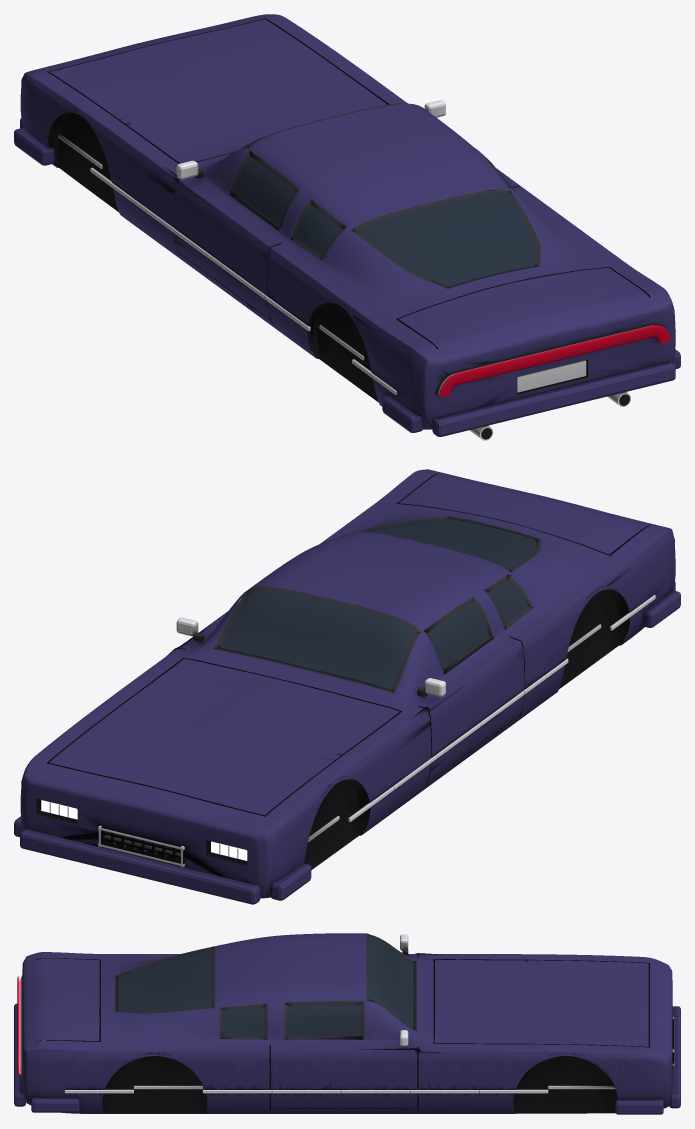
3 views of the same model, one above another, from view 1: azimuth 30°, elevation 25°; view 2: azimuth 150°, elevation 25°; view 3: azimuth 270°, elevation 25° (orthographic). The views are drawn at different scales.
Visible parts, largest first — view 1: body, glass_panes, part.027, tail_lens, part.030, part.025, part.028, tail_housing; view 2: body, glass_panes, part.024, part.025, part.028, cabin_skin; view 3: body, glass_panes, part.024, part.026, part.029, part.027, cabin_skin, part.050, part.038, part.040, part.052.
Part boxes in pixels (<box>): body: <box>20,14,675,429</box>; glass_panes: <box>234,103,536,286</box>; part.027: <box>432,361,675,436</box>; tail_lens: <box>439,325,670,396</box>; part.030: <box>516,360,586,392</box>; part.025: <box>14,127,54,165</box>; part.028: <box>382,396,423,432</box>; tail_housing: <box>436,323,665,395</box>; body: <box>20,469,675,898</box>; glass_panes: <box>219,518,535,689</box>; part.024: <box>20,829,260,904</box>; part.025: <box>270,863,311,900</box>; part.028: <box>641,590,680,627</box>; cabin_skin: <box>36,474,647,832</box>; body: <box>22,933,672,1113</box>; glass_panes: <box>117,935,413,1036</box>; part.024: <box>669,1006,680,1108</box>; part.026: <box>615,1099,663,1114</box>; part.029: <box>31,1097,79,1112</box>; part.027: <box>14,1003,25,1106</box>; cabin_skin: <box>37,946,646,1112</box>; part.050: <box>133,1085,203,1089</box>; part.038: <box>548,1085,615,1089</box>; part.040: <box>479,1089,548,1093</box>; part.052: <box>64,1089,133,1093</box>.
Bounding box in the file's own units: 2.04 × 1.05 × 5.5.
